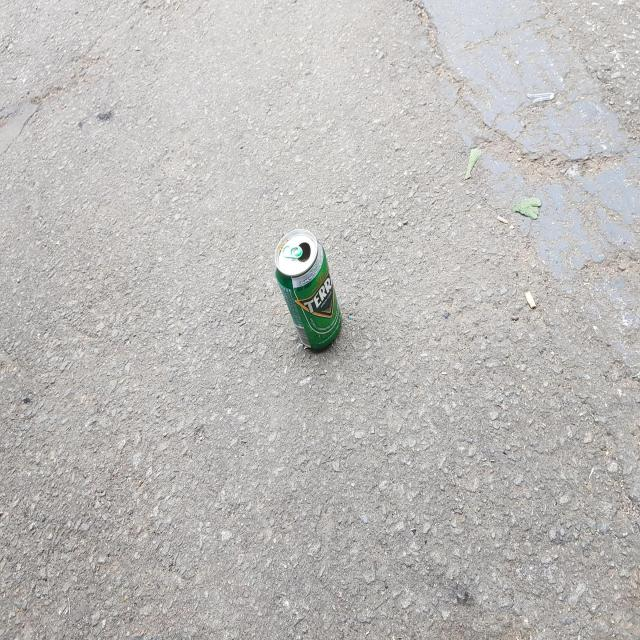can: (274, 228, 341, 349)
